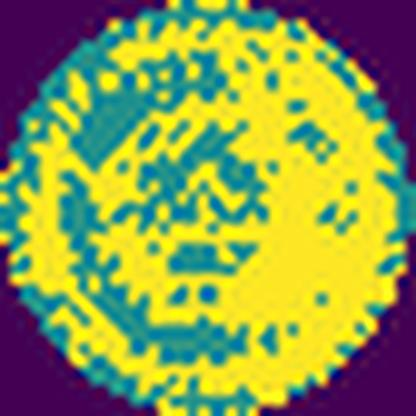Random: (13, 19, 415, 402)
